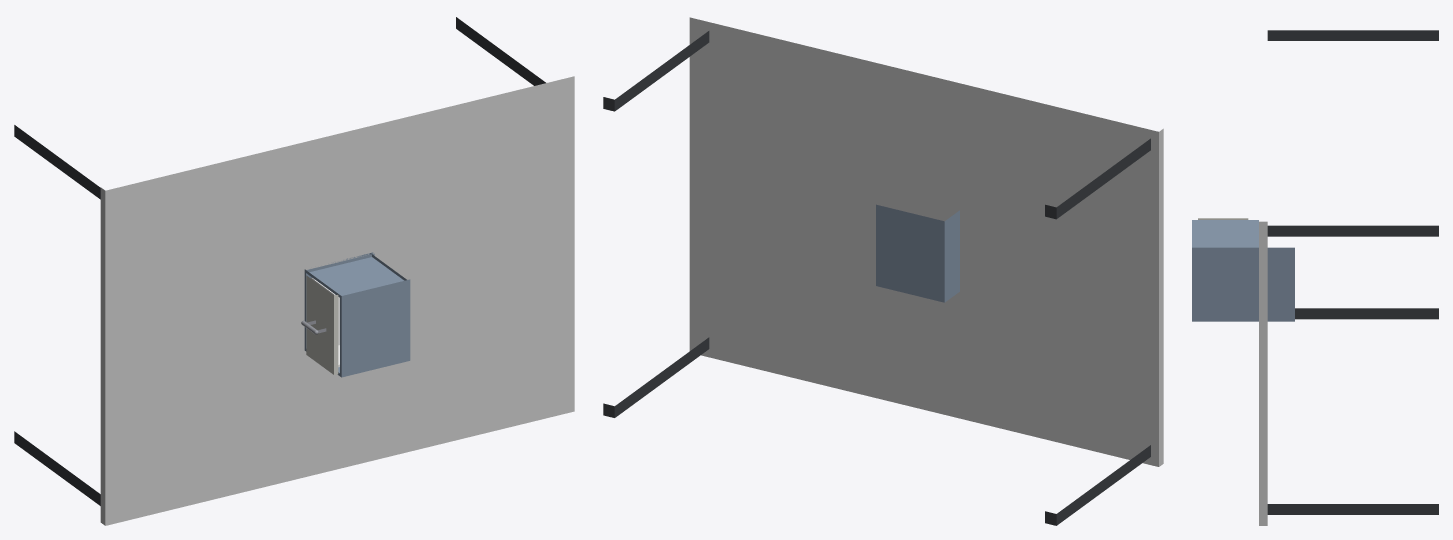
The model's file is t2_8bdf91f88b.glb.
The picture shows the model from 3 angles, left to right: view 1: azimuth 30°, elevation 25°; view 2: azimuth 150°, elevation 25°; view 3: azimuth 270°, elevation 25°; orthographic projection. The views are drawn at different scales.
Parts seen in each view (by area): view 1: s0, s1, s2; view 2: s0, s1; view 3: s0, s1.
Boxes of the visible parts, x1,y1,x2,y2 form: s0: (14,17,574,525); s1: (304,252,410,377); s2: (301,275,339,374); s0: (603,17,1163,525); s1: (876,204,959,302); s0: (1259,30,1438,525); s1: (1192,220,1294,321).
Size of the model in its own units: 2.05 by 1.4 by 1.03.
